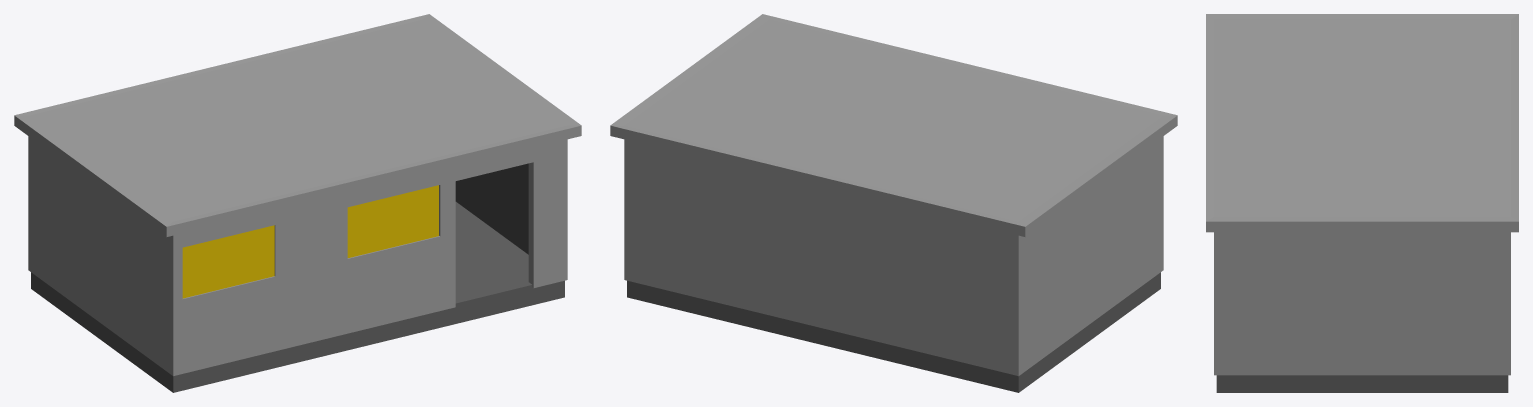
The model's file is security-prefab.fbx.
3 views of the same model, side by side, from view 1: azimuth 30°, elevation 25°; view 2: azimuth 150°, elevation 25°; view 3: azimuth 270°, elevation 25° (orthographic). The views are drawn at different scales.
Parts seen in each view (by area): view 1: polySurface60; view 2: polySurface60; view 3: polySurface60.
Boxes of the visible parts, left/top/right/bottom form: polySurface60: left=14, top=14, right=581, bottom=392; polySurface60: left=610, top=14, right=1177, bottom=392; polySurface60: left=1206, top=14, right=1518, bottom=392.
Bounding box in the file's own units: 22.76 × 9.04 × 14.47.
